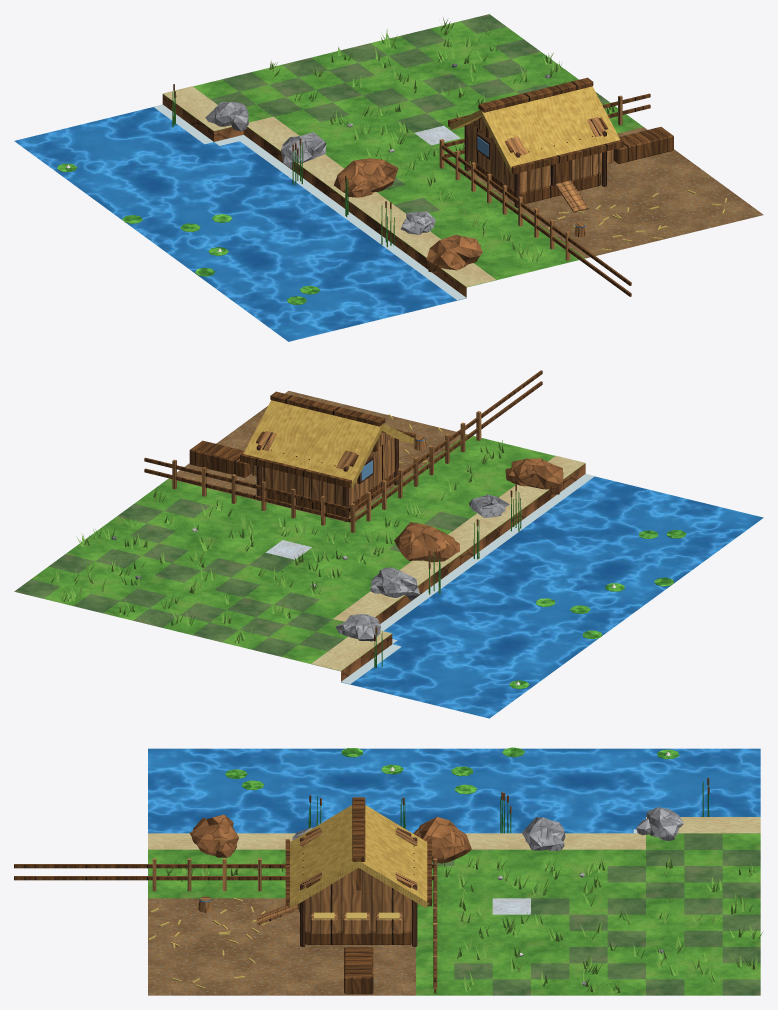
Rendered from chunk_4_3.glb.
The picture shows the model from 3 angles, top to bottom: view 1: azimuth 30°, elevation 25°; view 2: azimuth 150°, elevation 25°; view 3: azimuth 270°, elevation 25°; orthographic projection. The views are drawn at different scales.
Parts seen in each view (by area): view 1: chunk_4_3; view 2: chunk_4_3; view 3: chunk_4_3.
Boxes of the visible parts, x1,y1,x2,y2 form: chunk_4_3: [14, 14, 763, 341]; chunk_4_3: [14, 370, 763, 718]; chunk_4_3: [14, 747, 762, 995].
Bounding box in the file's own units: 16.53 × 3.26 × 19.58.
Materials: 23 (18 with a texture image).
